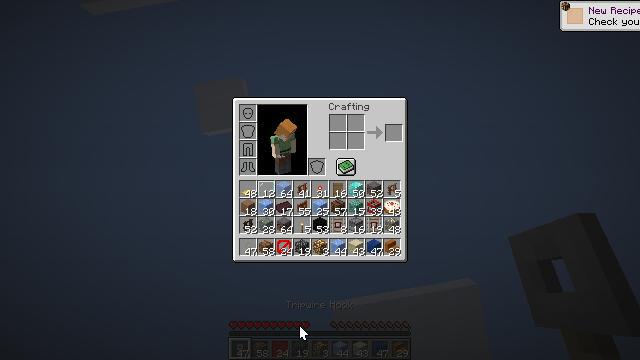cursor: (299, 325, 309, 341)
